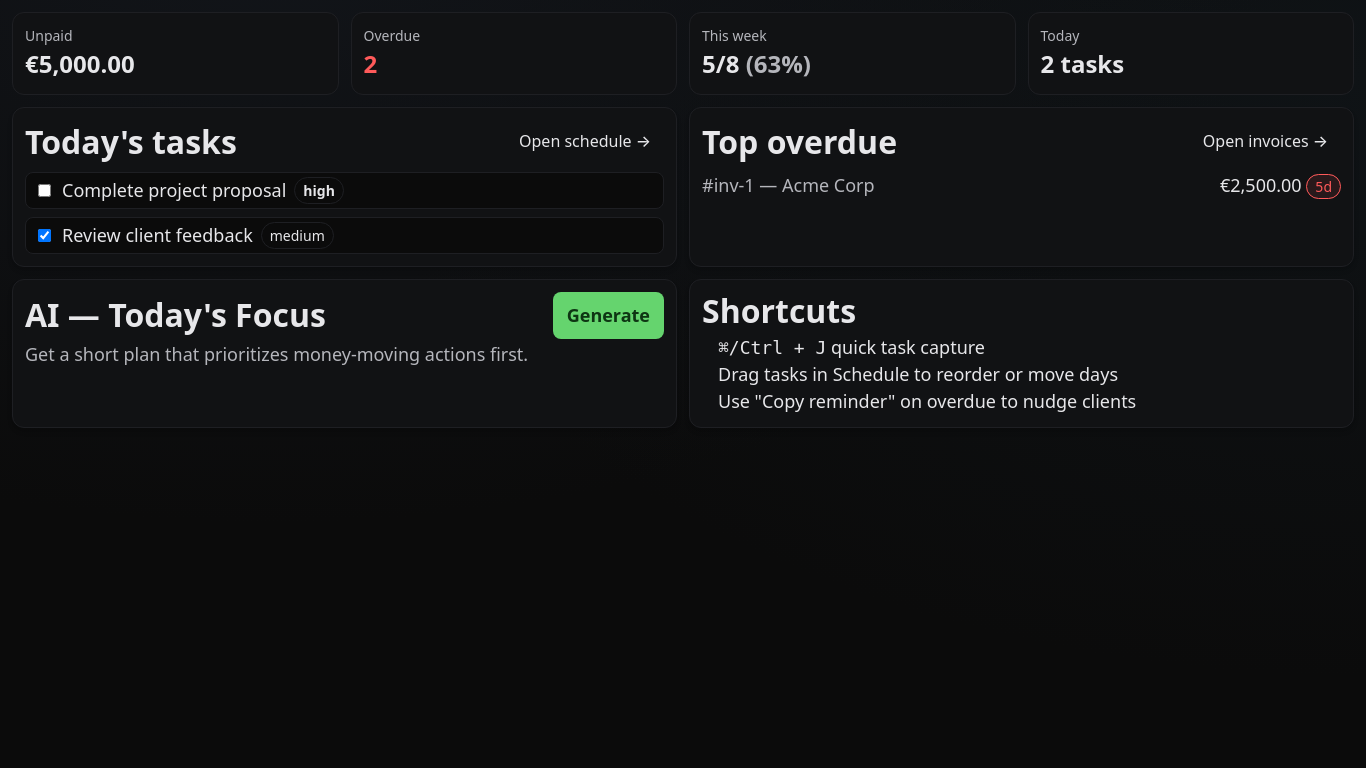
Scenario: FocusPage › copies plan to clipboard
The width and height of the screenshot is (1366, 768).
// Generate plan first
Click the button "Generate" at (608, 316), box top-left (553, 292), bottom-right (664, 339)
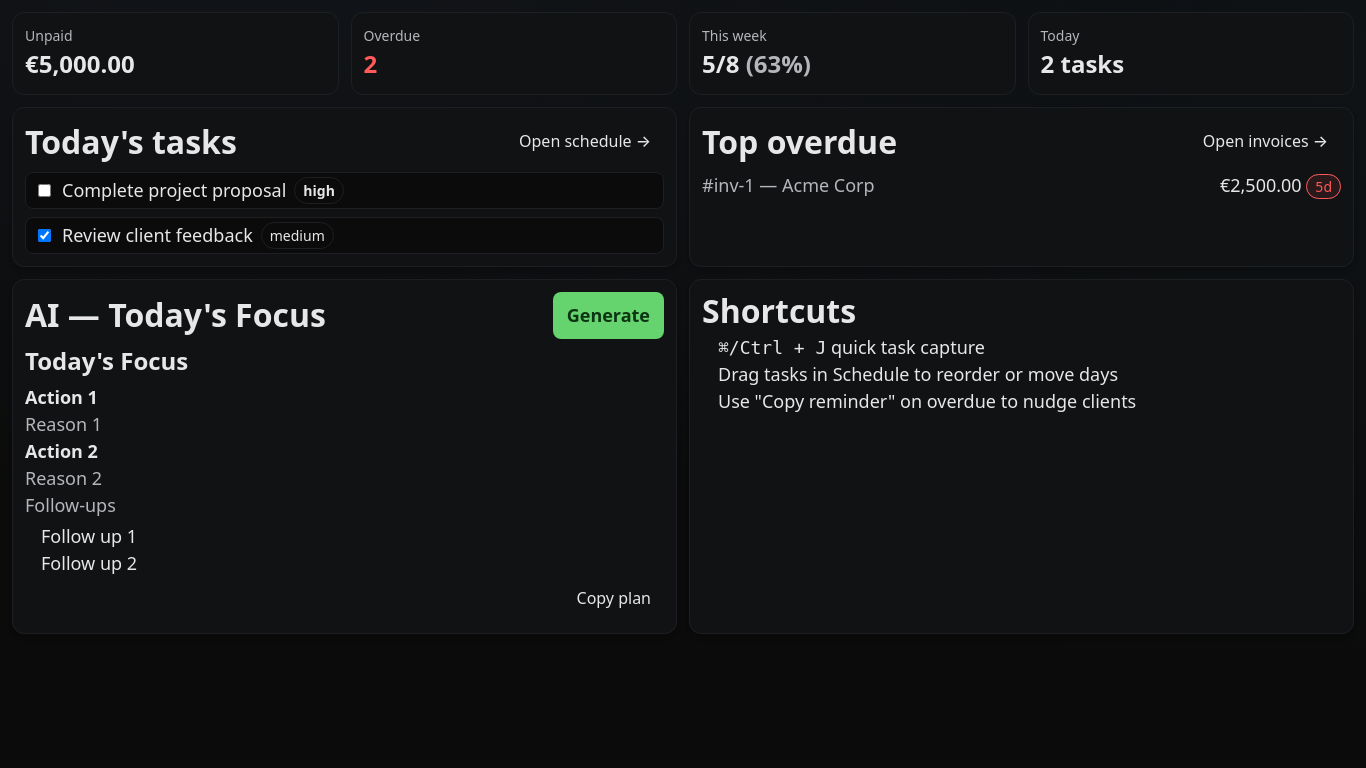
Check: the heading "Today's Focus" is shown, box top-left (25, 344), bottom-right (188, 377)
// Copy plan
Click the button "Copy plan" at (614, 599), box top-left (564, 577), bottom-right (664, 621)
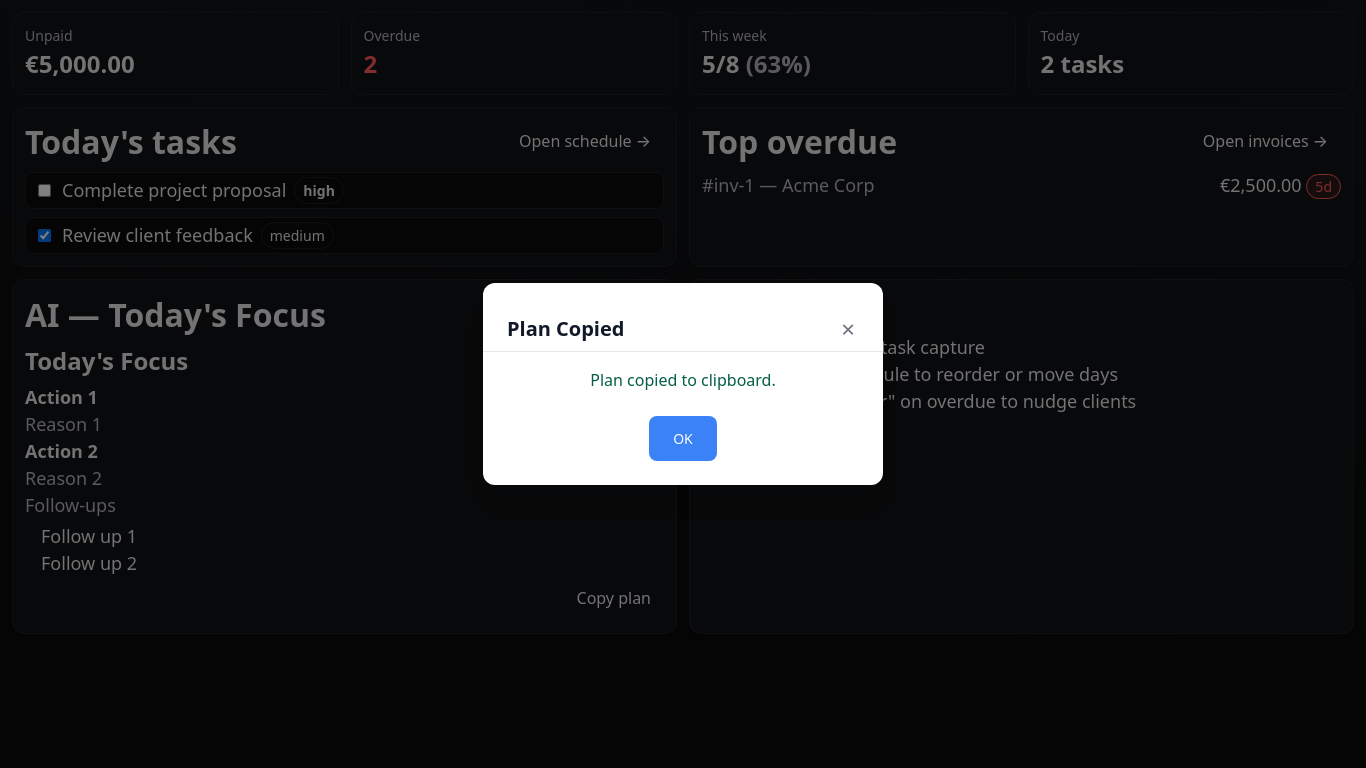
Check: the text "Plan copied to clipboard." is shown, box top-left (590, 369), bottom-right (776, 391)
